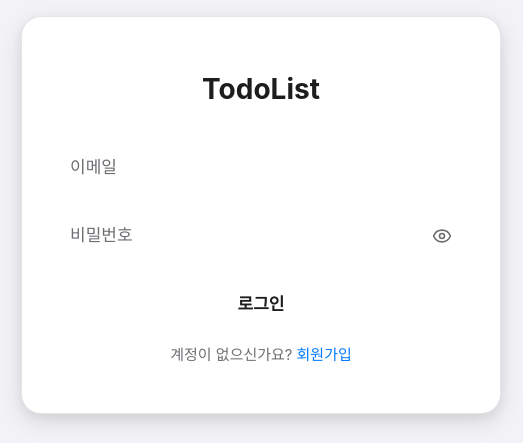
LoginPage › 로딩 중에는 로그인 버튼이 비활성화된다
This screenshot has width=523, height=443.
Type "test@example.com" into the field labelled "이메일" at (261, 168), box left=54, top=142, right=468, bottom=194
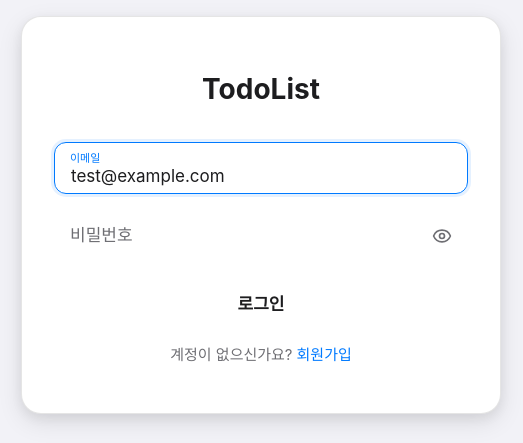
Type "password123" into the password field labelled "비밀번호" at (261, 236), box left=54, top=210, right=468, bottom=262
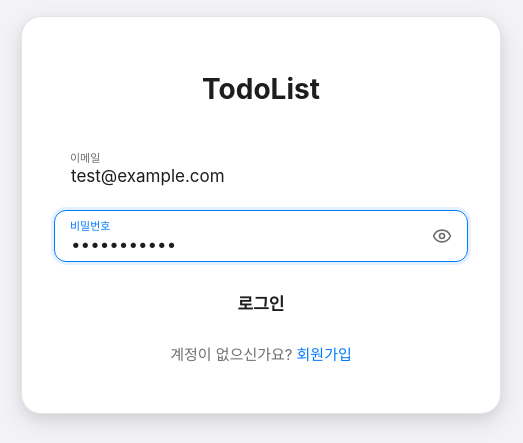
Click the button "로그인" at (261, 303), box left=54, top=278, right=468, bottom=328
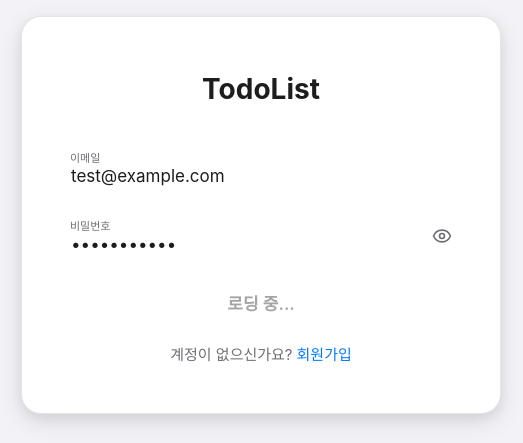
Now the button "로딩 중..." is disabled, box left=54, top=278, right=468, bottom=328
